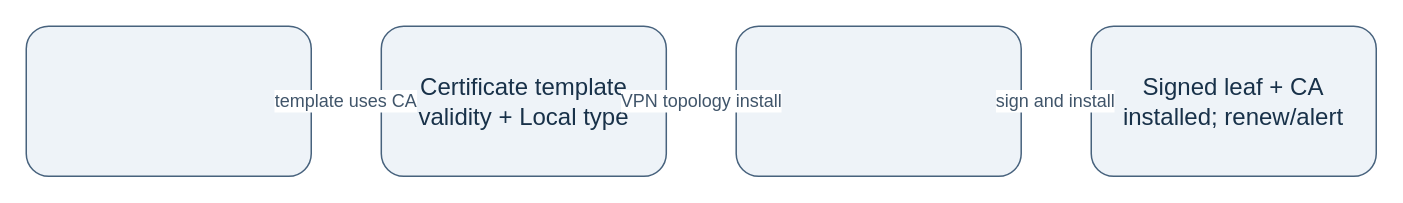
Image size: 1403x203. Some labels were removed from this diagram. The centre of each missing label's shape, as x and y in pixels:
"ADOM-local CA key pair" belongs at [168,100].
"FortiGate creates CSR" belongs at [878,100].
